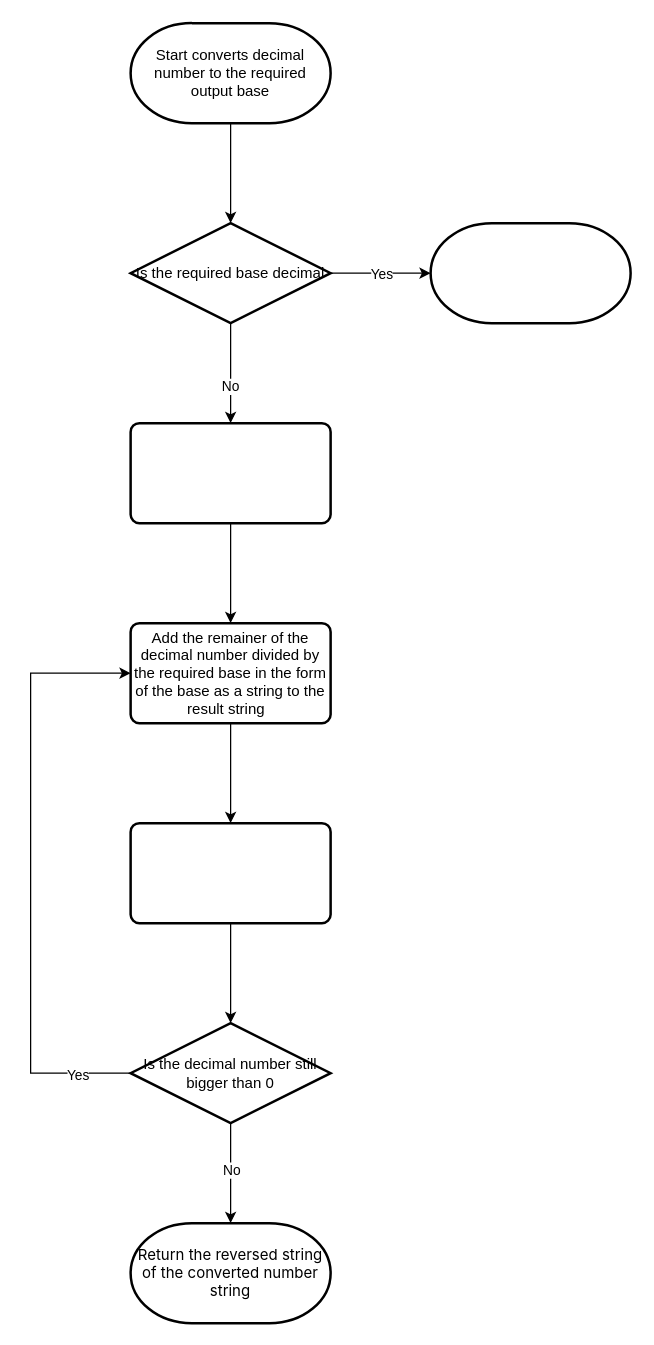
The diagram is 654 pixels wide and 1345 high, and some of its shapes have lost their labels. The centre of each missing label's shape, as x and y in pixels:
"Convert the decimal to an integer" belongs at pixel 230 472.
"Integer divide the decimal number by the base" belongs at pixel 230 872.
"Return the decimal number directly" belongs at pixel 530 272.
